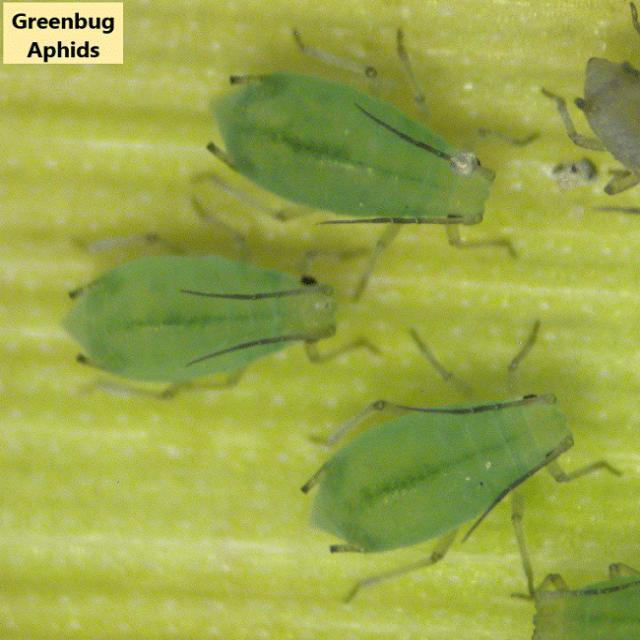Aphids: (189, 18, 517, 272), (267, 342, 605, 577), (54, 212, 376, 420), (550, 35, 640, 243), (505, 526, 640, 640)
